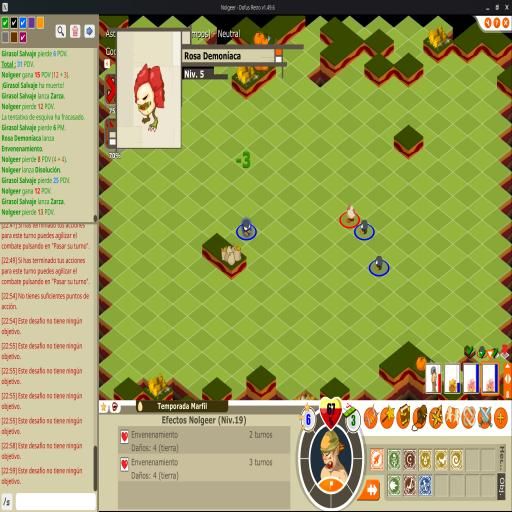Enemigos: (242, 219, 252, 236), (374, 255, 384, 271), (360, 219, 369, 235)
Personaje: (346, 204, 356, 224)
